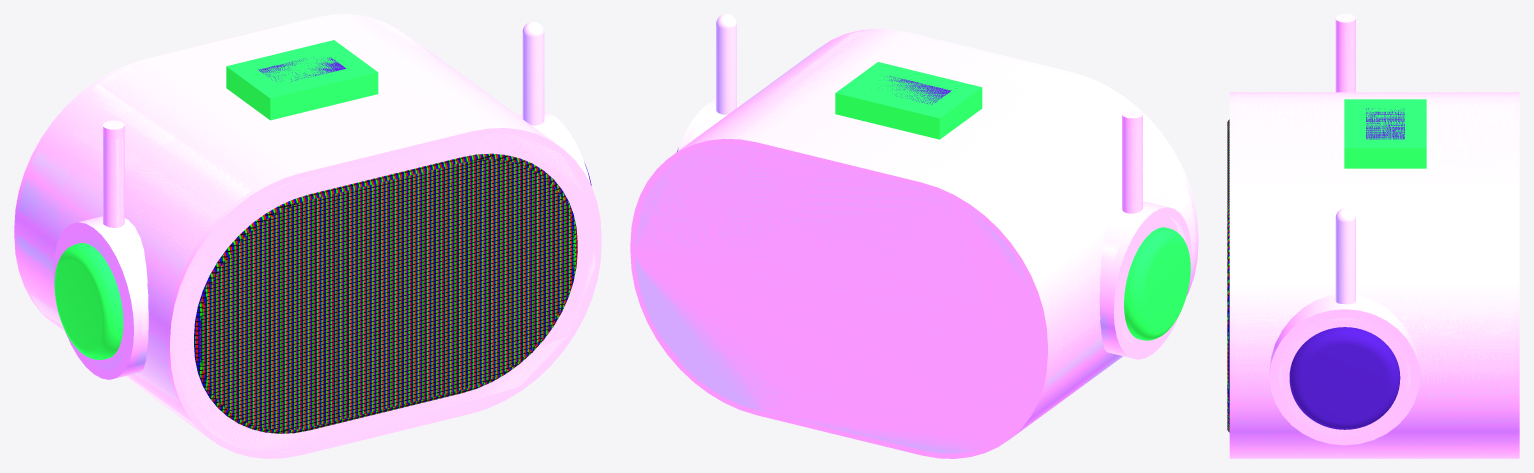
3 renders of one model, left to right at view 1: azimuth 30°, elevation 25°; view 2: azimuth 150°, elevation 25°; view 3: azimuth 270°, elevation 25°, orthographic. The views are drawn at different scales.
Parts seen in each view (by area): view 1: Cube (×2), Cube001, Cylinder (×2), Cube002, Cylinder001, Cylinder002 (×2); view 2: Cube (×2), Cube002 (×2), Cylinder (×2), Cylinder001, Cylinder002 (×2); view 3: Cube (×2), Cylinder (×2), Cylinder001, Cube002 (×2), Cylinder002 (×2), Cube001.
Boxes of the visible parts, <box> form: Cube (×2): <box>14,14,601,458</box>; Cube001: <box>194,153,577,433</box>; Cylinder (×2): <box>53,111,590,379</box>; Cube002: <box>226,40,378,120</box>; Cylinder001: <box>54,243,123,359</box>; Cylinder002 (×2): <box>103,21,544,227</box>; Cube (×2): <box>630,28,1198,458</box>; Cube002 (×2): <box>835,62,982,139</box>; Cylinder (×2): <box>677,99,1191,359</box>; Cylinder001: <box>1124,227,1190,340</box>; Cylinder002 (×2): <box>716,14,1142,213</box>; Cube (×2): <box>1229,92,1519,458</box>; Cylinder (×2): <box>1269,294,1419,445</box>; Cylinder001: <box>1289,327,1400,429</box>; Cube002 (×2): <box>1344,99,1426,168</box>; Cylinder002 (×2): <box>1335,14,1355,304</box>; Cube001: <box>1227,119,1229,432</box>.
Bounding box in the file's own units: 3.63 × 2.35 × 2.02.
6 materials, 2 textured.
